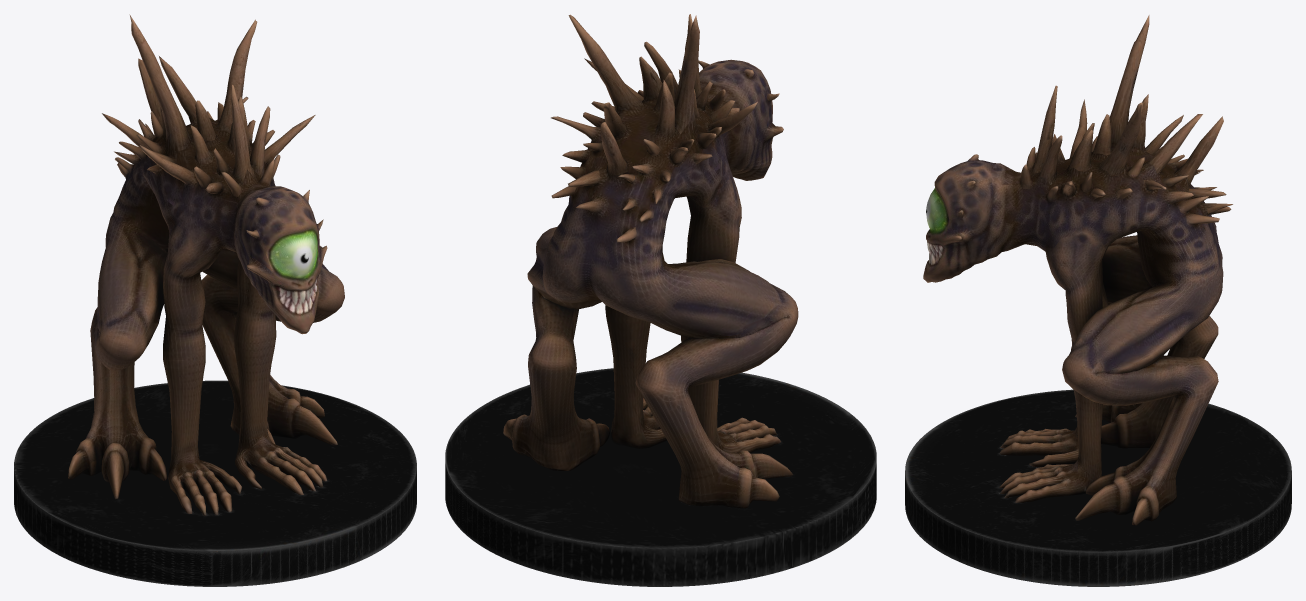
Rendered from MZ4250 - Nothic.glb.
The picture shows the model from 3 angles, left to right: view 1: azimuth 30°, elevation 25°; view 2: azimuth 150°, elevation 25°; view 3: azimuth 270°, elevation 25°; orthographic projection. The views are drawn at different scales.
Parts seen in each view (by area): view 1: nothic_low.001, base_low.001; view 2: nothic_low.001, base_low.001; view 3: nothic_low.001, base_low.001.
Boxes of the visible parts, x1,y1,x2,y2 form: nothic_low.001: [68, 14, 344, 515]; base_low.001: [14, 380, 416, 586]; nothic_low.001: [503, 14, 798, 508]; base_low.001: [445, 368, 876, 586]; nothic_low.001: [923, 15, 1232, 525]; base_low.001: [905, 389, 1291, 586].
Size of the model in its own units: 1.04 by 1.38 by 1.04.
Materials: 1 (1 with a texture image).
